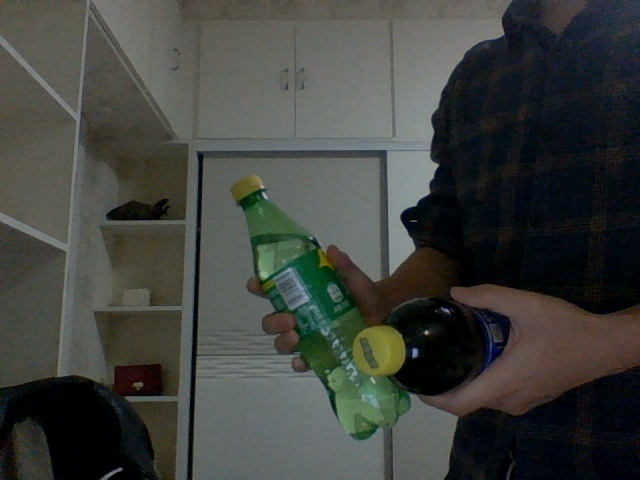Cola: (349, 295, 517, 396)
Sprite: (230, 174, 412, 441)
